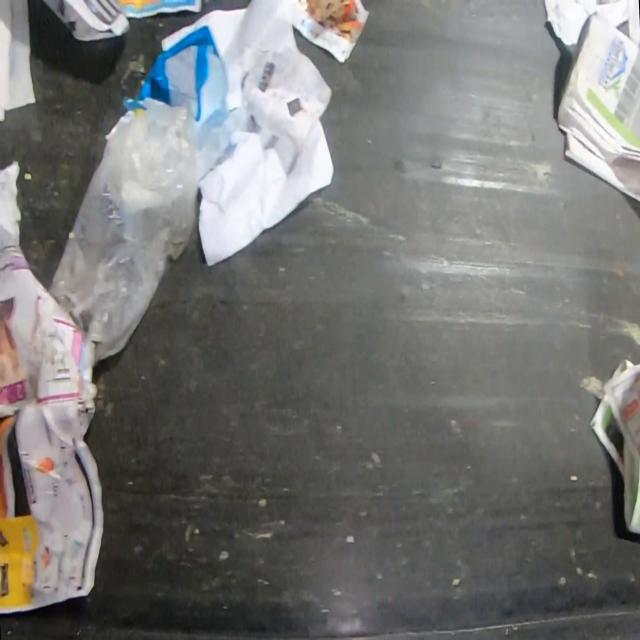soft_plastic: (50, 101, 198, 367), (122, 25, 256, 186)
